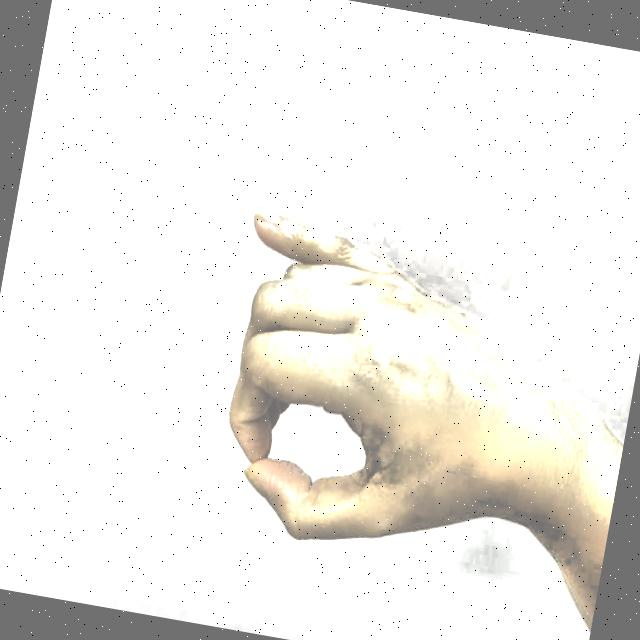Ou: (176, 166, 580, 595)
